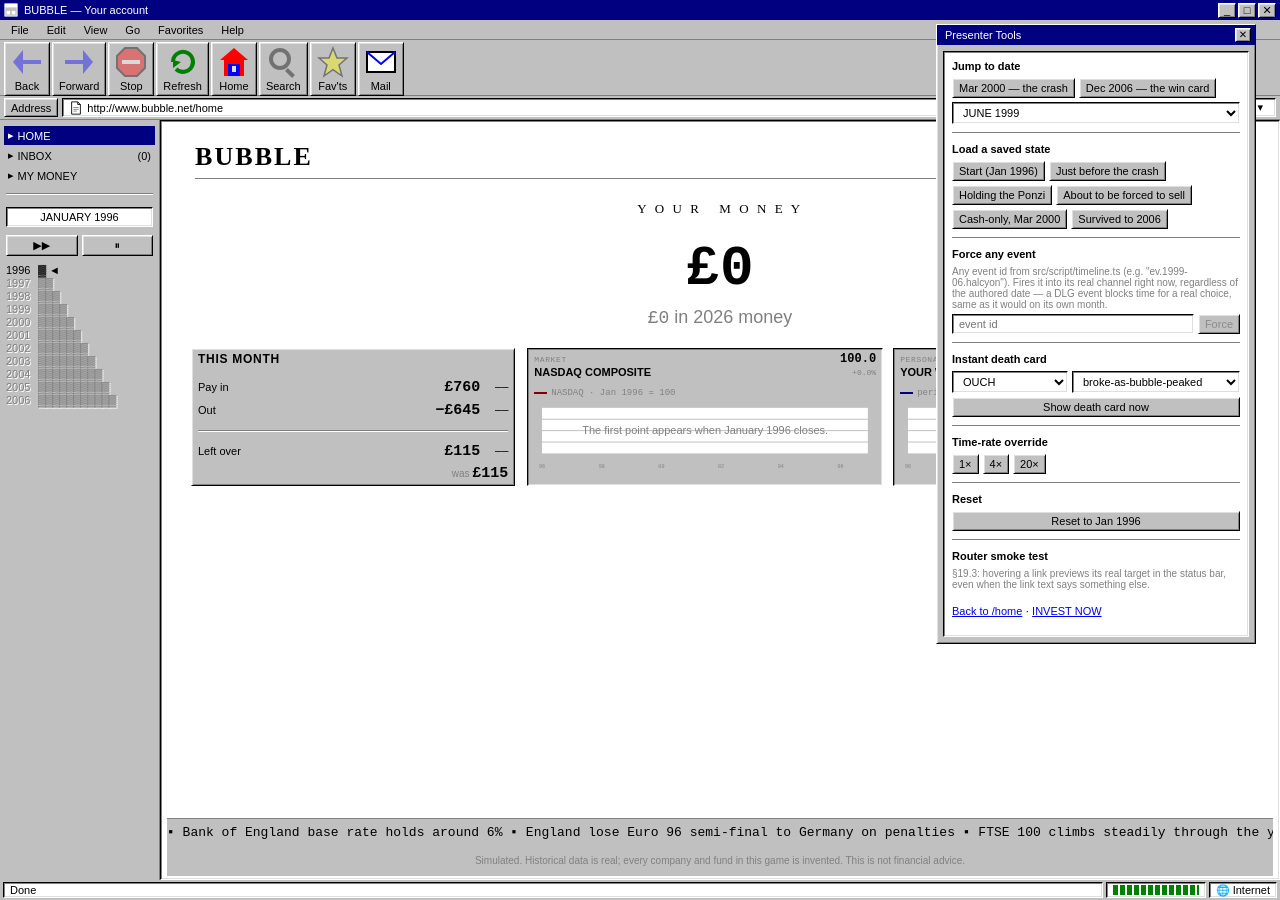
§25.5 — the demo path, beat by beat, driven through the real AppShell › Jun 1999 — Halcyon: the beautiful (slick) site, the fact sheet, decline (§21 rule 1 — the demo's money shot)
The width and height of the screenshot is (1280, 900).
Select "JUNE 1999" in the dropdown named "Jump to any month" at (1096, 113), box x1=952 y1=102 x2=1240 y2=124
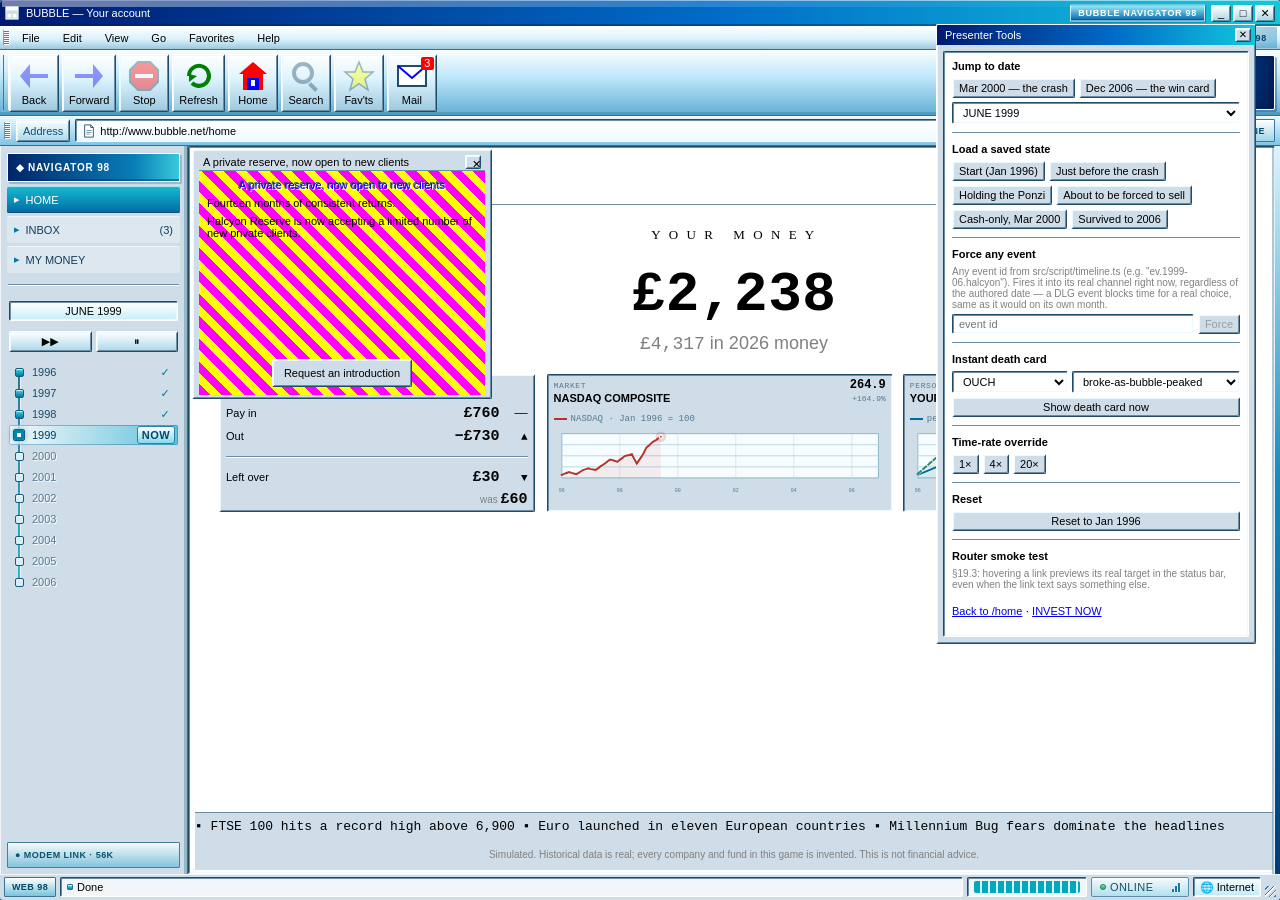
Check: the dialog with class "comet-popup" is shown, box x1=192 y1=149 x2=492 y2=399
Check: the button with class "comet-popup__cta" is shown
Click the button with class "comet-popup__cta".
click(342, 373)  # box x1=272 y1=359 x2=412 y2=387
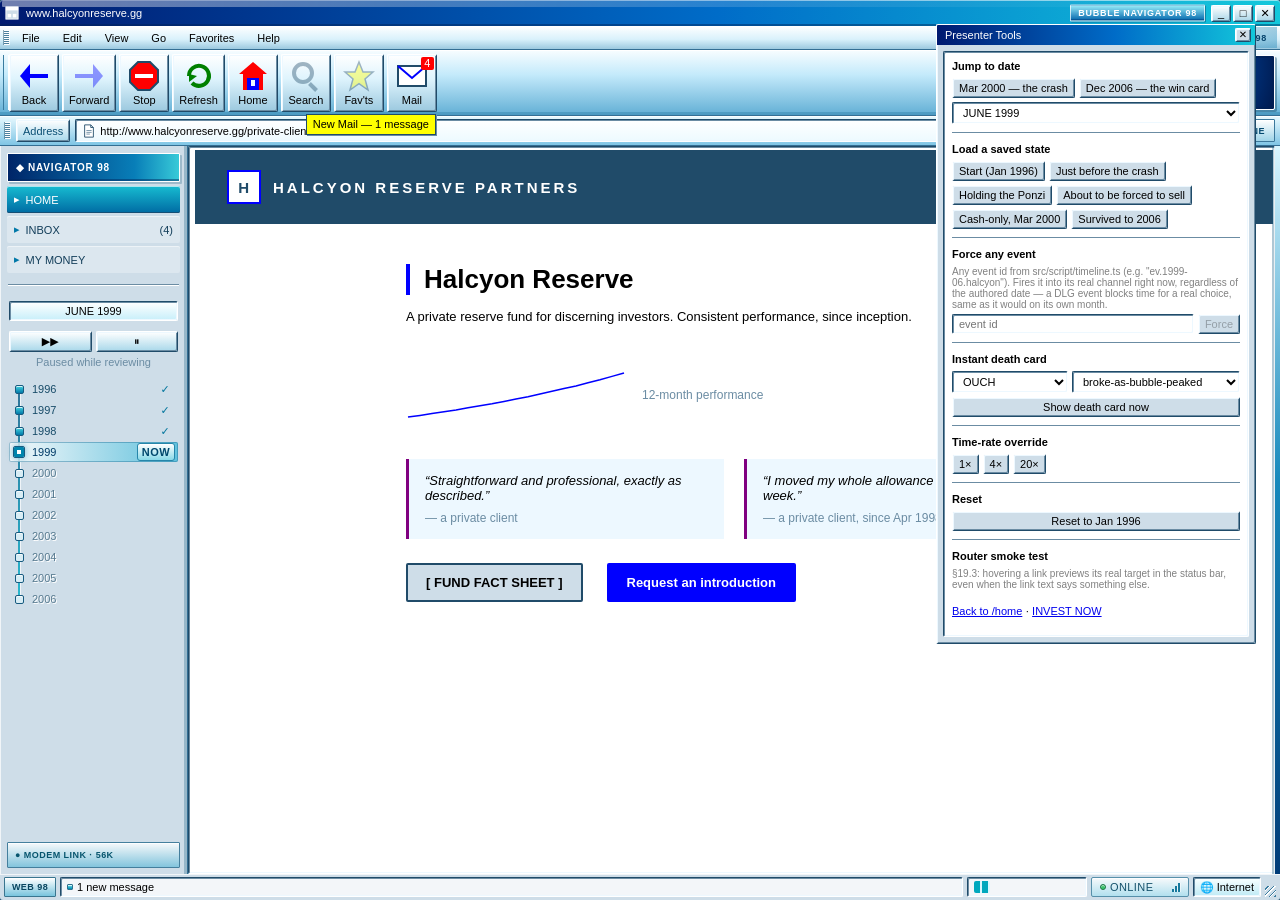
Check: the element with class "offer-page--slick" is shown
Click the link "[ FUND FACT SHEET ]".
click(494, 582)  # box x1=406 y1=562 x2=582 y2=602
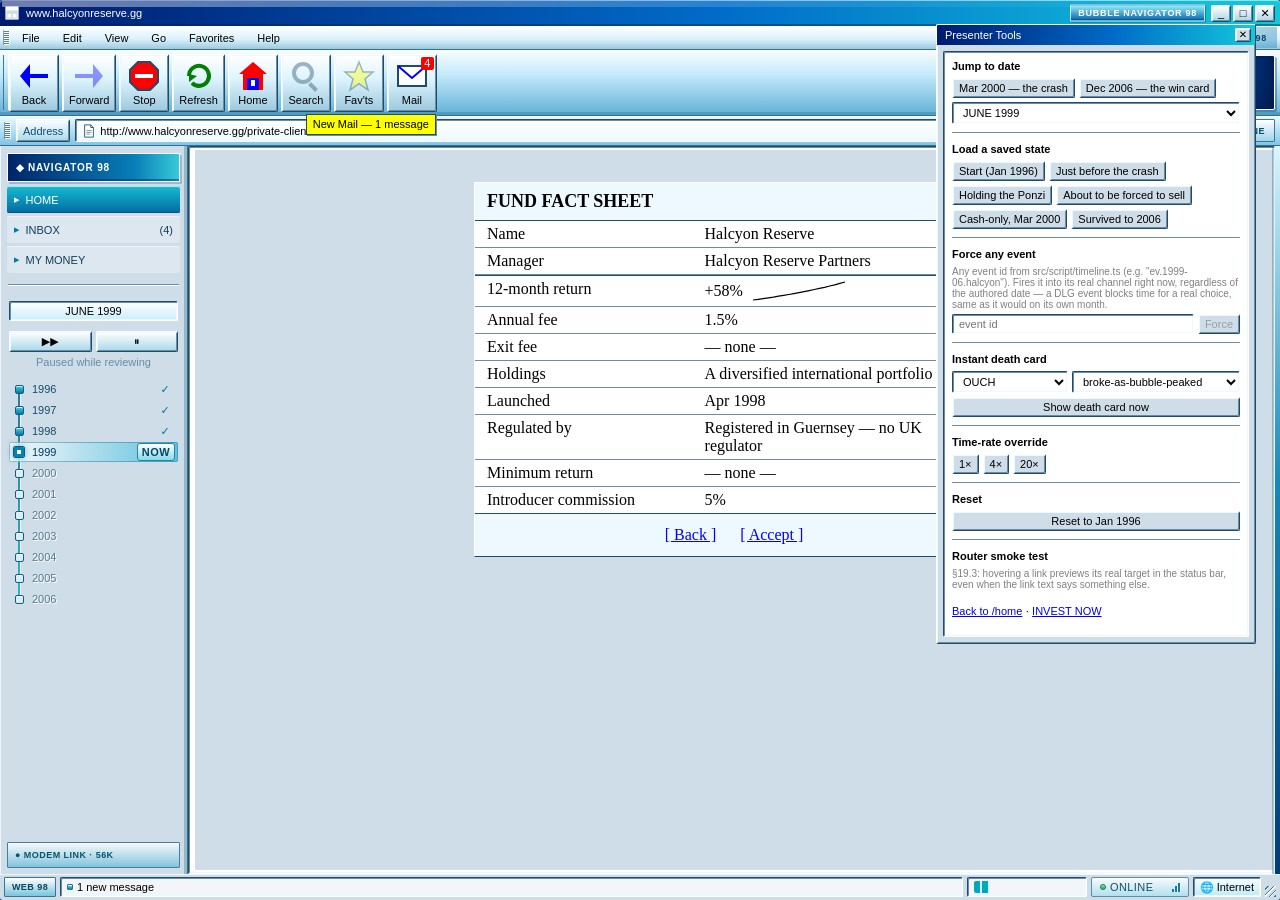
Check: the element with class "factsheet__value" does not show ""
Click the link with class "factsheet__button" showing "[ Back ]".
click(690, 535)  # box x1=661 y1=524 x2=720 y2=546
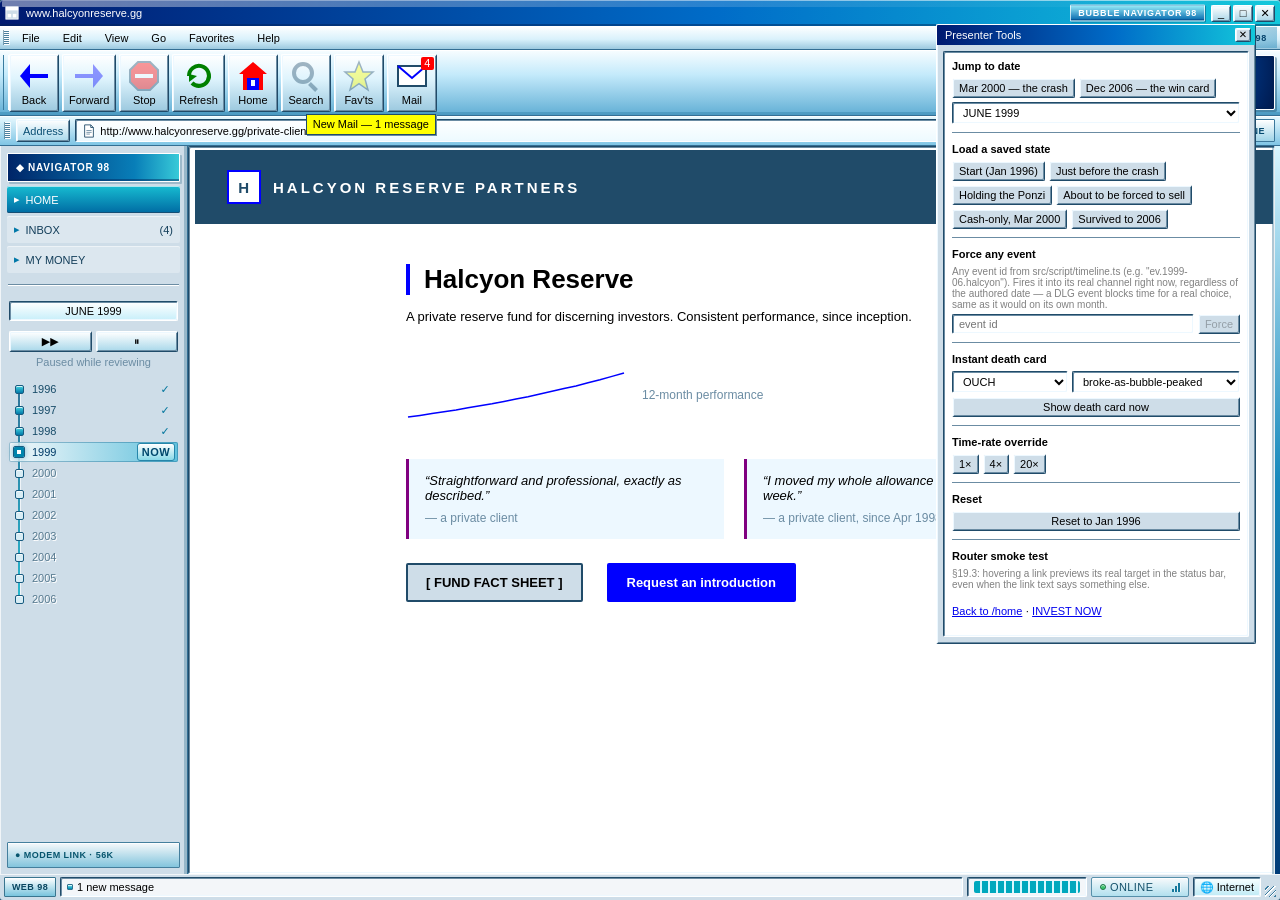
Check: the element with class "offer-page--slick" is shown
